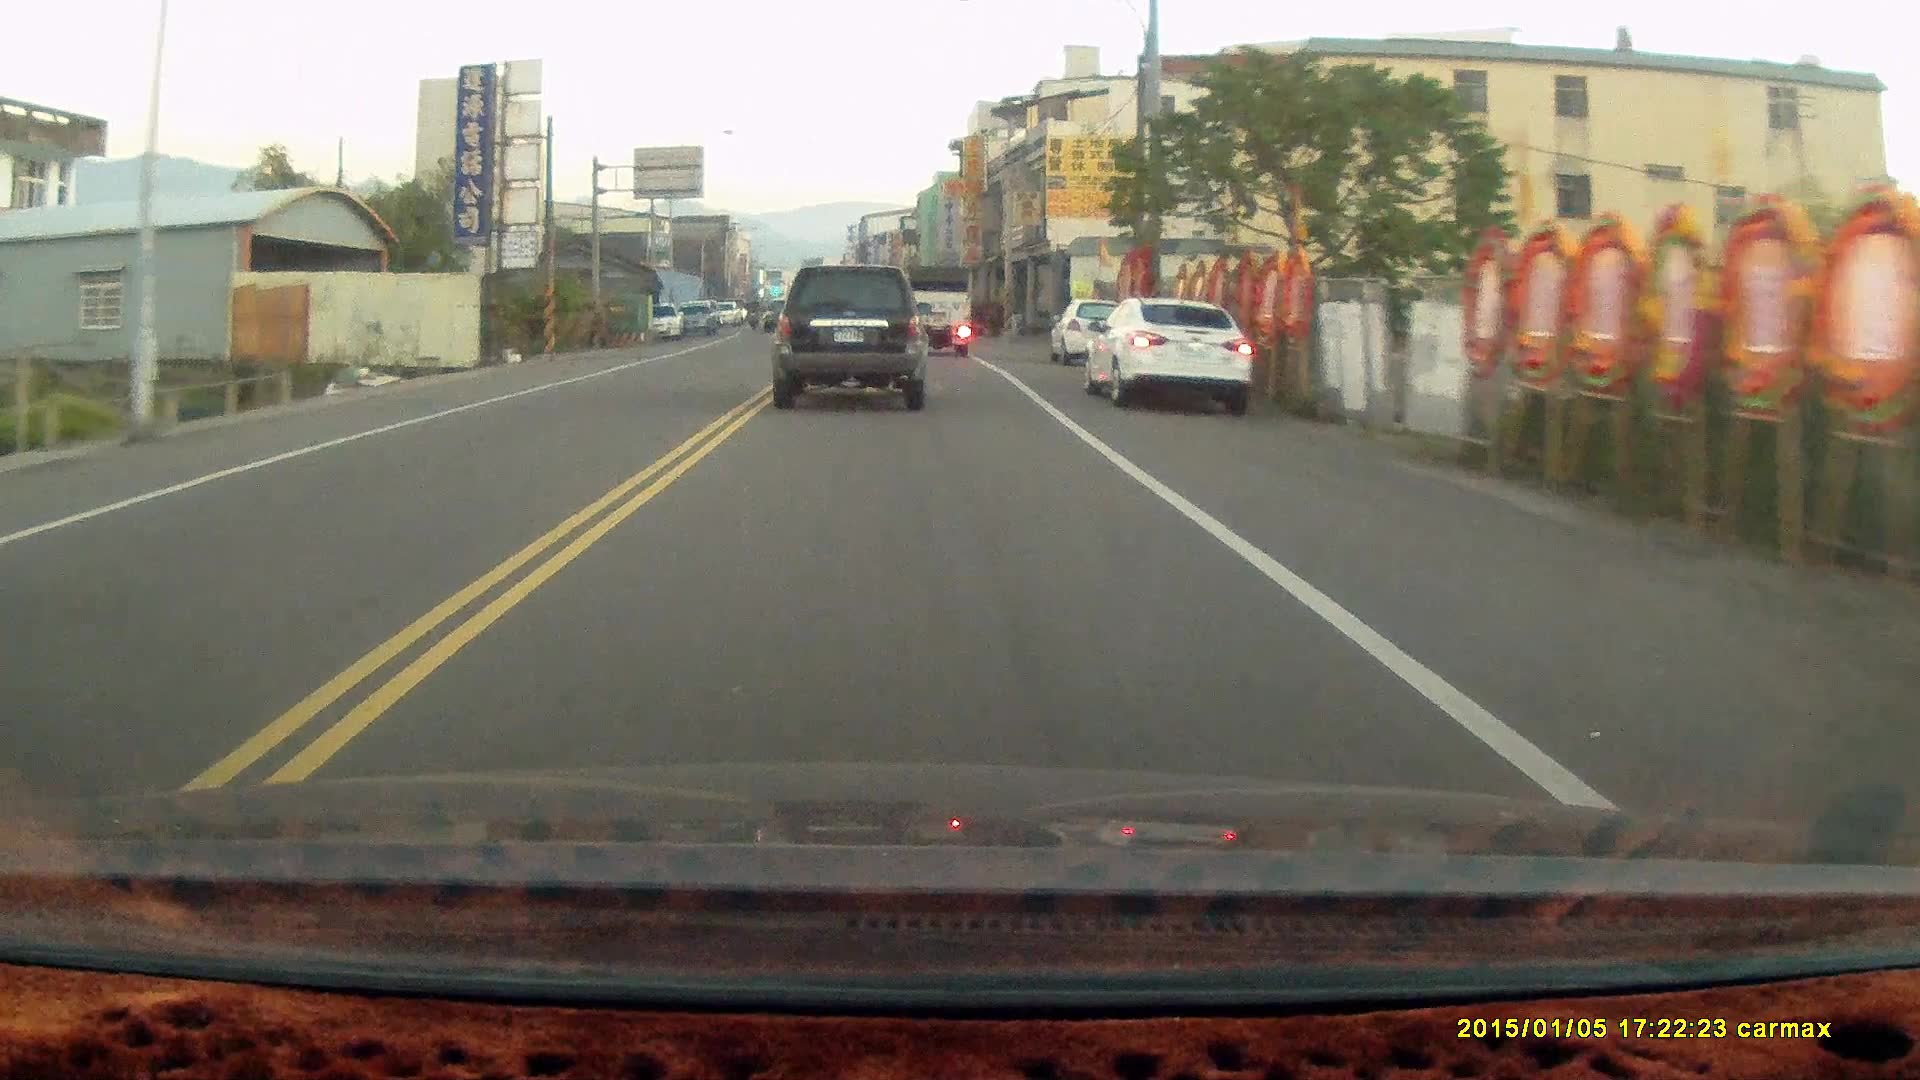vehicle: (771, 261, 932, 411), (1084, 291, 1254, 409), (901, 262, 976, 357), (1048, 295, 1142, 364)
